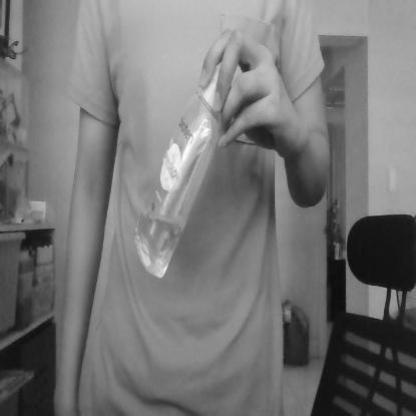Plastic Bottle: (134, 50, 236, 279)
